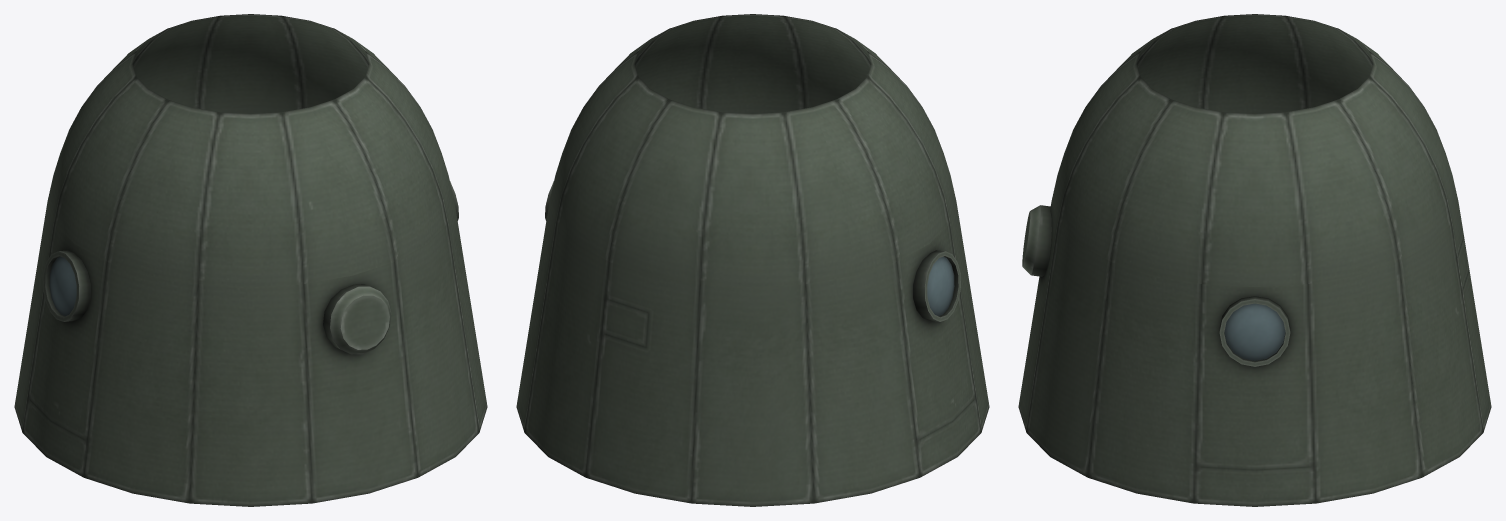
The model's file is virgo_crew_s1_1.obj.
The picture shows the model from 3 angles, left to right: view 1: azimuth 30°, elevation 25°; view 2: azimuth 150°, elevation 25°; view 3: azimuth 270°, elevation 25°; orthographic projection.
Parts seen in each view (by area): view 1: mesh, windows; view 2: mesh, windows; view 3: mesh, windows.
Part boxes in pixels (x1,y1,x2,y2): mesh: (14, 14, 487, 506); windows: (49, 256, 76, 316); mesh: (516, 14, 989, 506); windows: (927, 256, 954, 316); mesh: (1018, 14, 1491, 506); windows: (1224, 303, 1285, 360).
Bounding box in the file's own units: 1.25 × 1 × 1.25.
